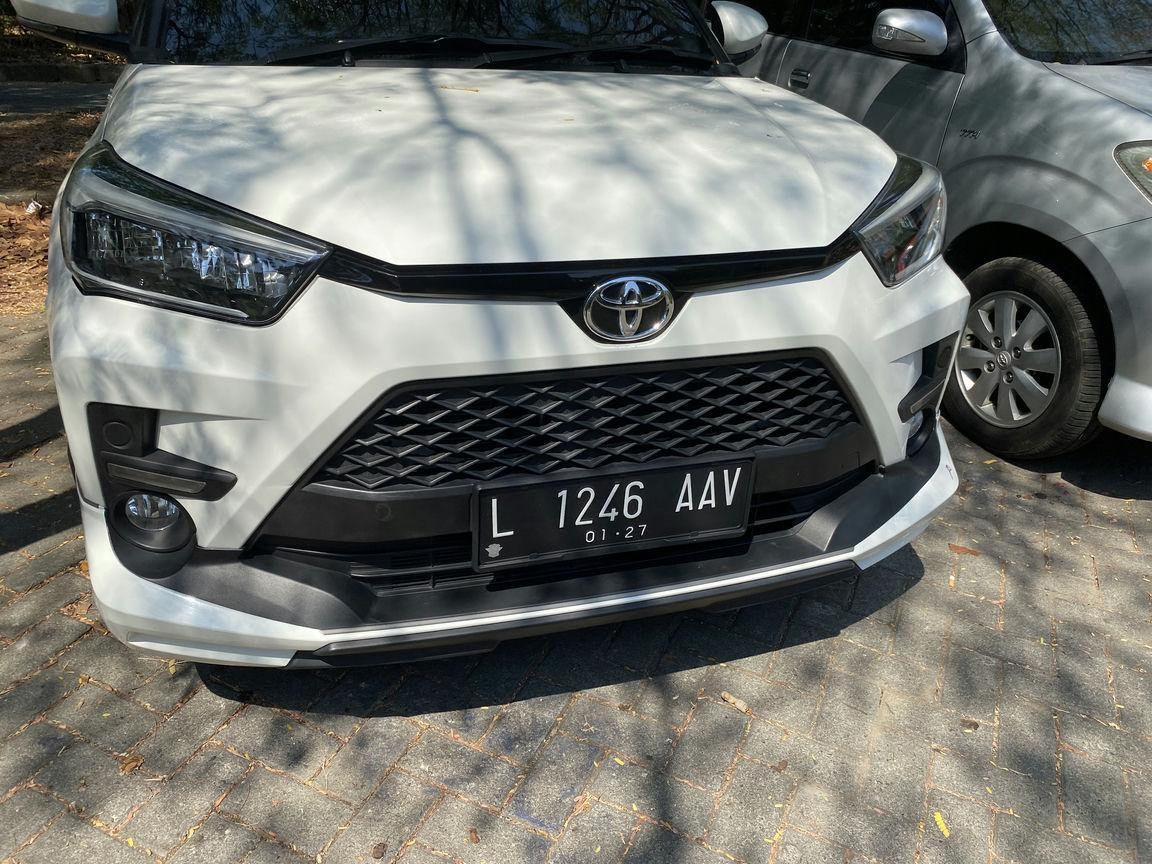plat: (477, 461, 754, 567)
